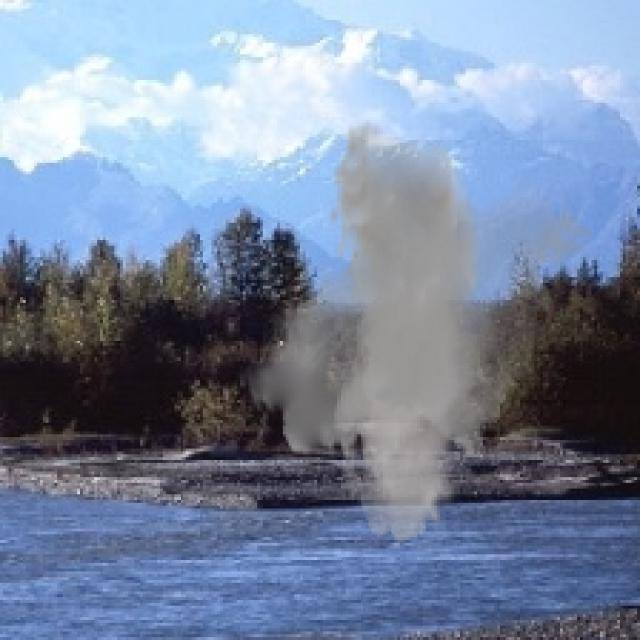smoke: (237, 120, 594, 543)
